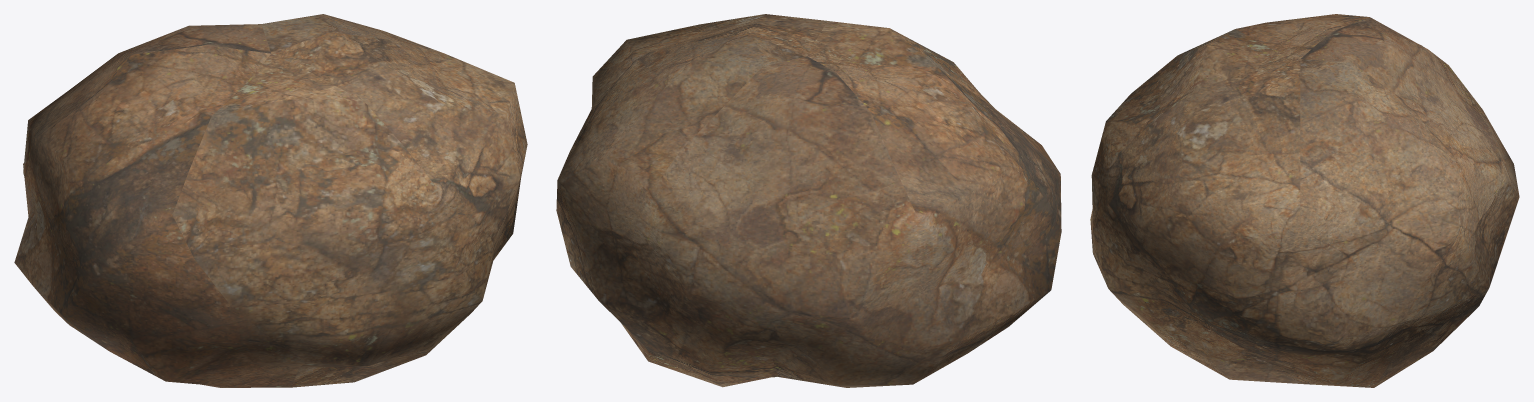
File: boulder2.glb
3 renders of one model, left to right at view 1: azimuth 30°, elevation 25°; view 2: azimuth 150°, elevation 25°; view 3: azimuth 270°, elevation 25°, orthographic. The views are drawn at different scales.
Visible parts, largest first — view 1: Boulder2; view 2: Boulder2; view 3: Boulder2.
Part boxes in pixels (left/top/right/bottom): Boulder2: left=14, top=14, right=527, bottom=387; Boulder2: left=556, top=14, right=1061, bottom=387; Boulder2: left=1090, top=14, right=1519, bottom=387.
Size of the model in its own units: 2.66 by 1.75 by 2.37.
Materials: 1 (1 with a texture image).
